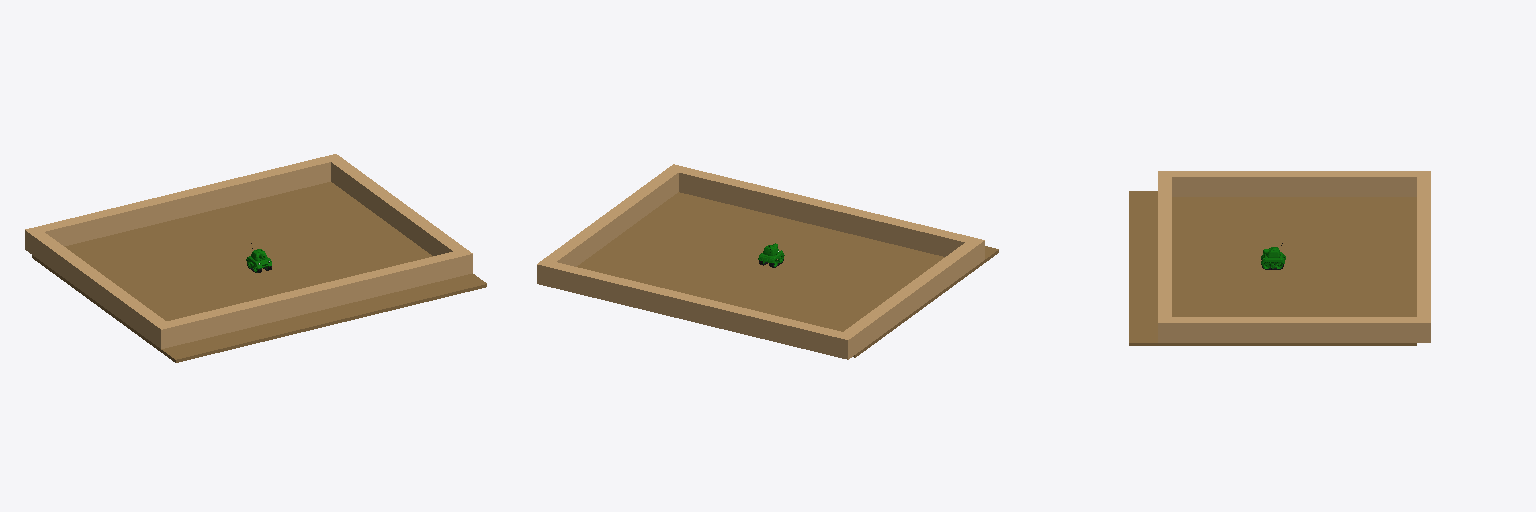
Rendered from unityexport.obj.
3 renders of one model, left to right at view 1: azimuth 30°, elevation 25°; view 2: azimuth 150°, elevation 25°; view 3: azimuth 270°, elevation 25°, orthographic.
Parts seen in each view (by area): view 1: Ground, Cube (3), Cube (4), Cube (6), Cube (5); view 2: Ground, Cube (4), Cube (3), Cube (6), Cube (5); view 3: Ground, Cube (5), Cube (6), Cube (3), Cube (4).
Part boxes in pixels (x1,y1,x2,y2): Ground: (32, 182, 486, 362); Cube (3): (154, 249, 472, 348); Cube (4): (25, 154, 340, 253); Cube (6): (31, 231, 167, 344); Cube (5): (329, 157, 466, 255); Ground: (577, 192, 998, 357); Cube (4): (537, 259, 854, 359); Cube (3): (666, 164, 984, 263); Cube (6): (842, 242, 978, 354); Cube (5): (544, 168, 679, 266); Ground: (1129, 191, 1416, 345); Cube (5): (1172, 317, 1420, 342); Cube (6): (1169, 171, 1420, 196); Cube (3): (1158, 171, 1171, 342); Cube (4): (1417, 171, 1430, 342).
Bounding box in the file's own units: 25 × 2.12 × 21.